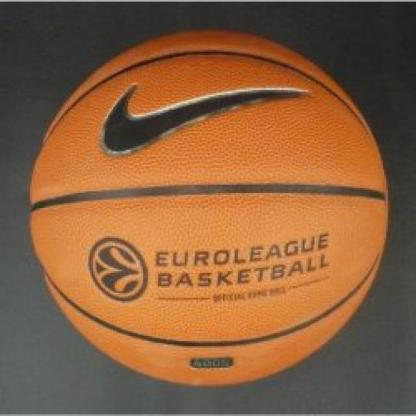basketball: (29, 27, 390, 390)
